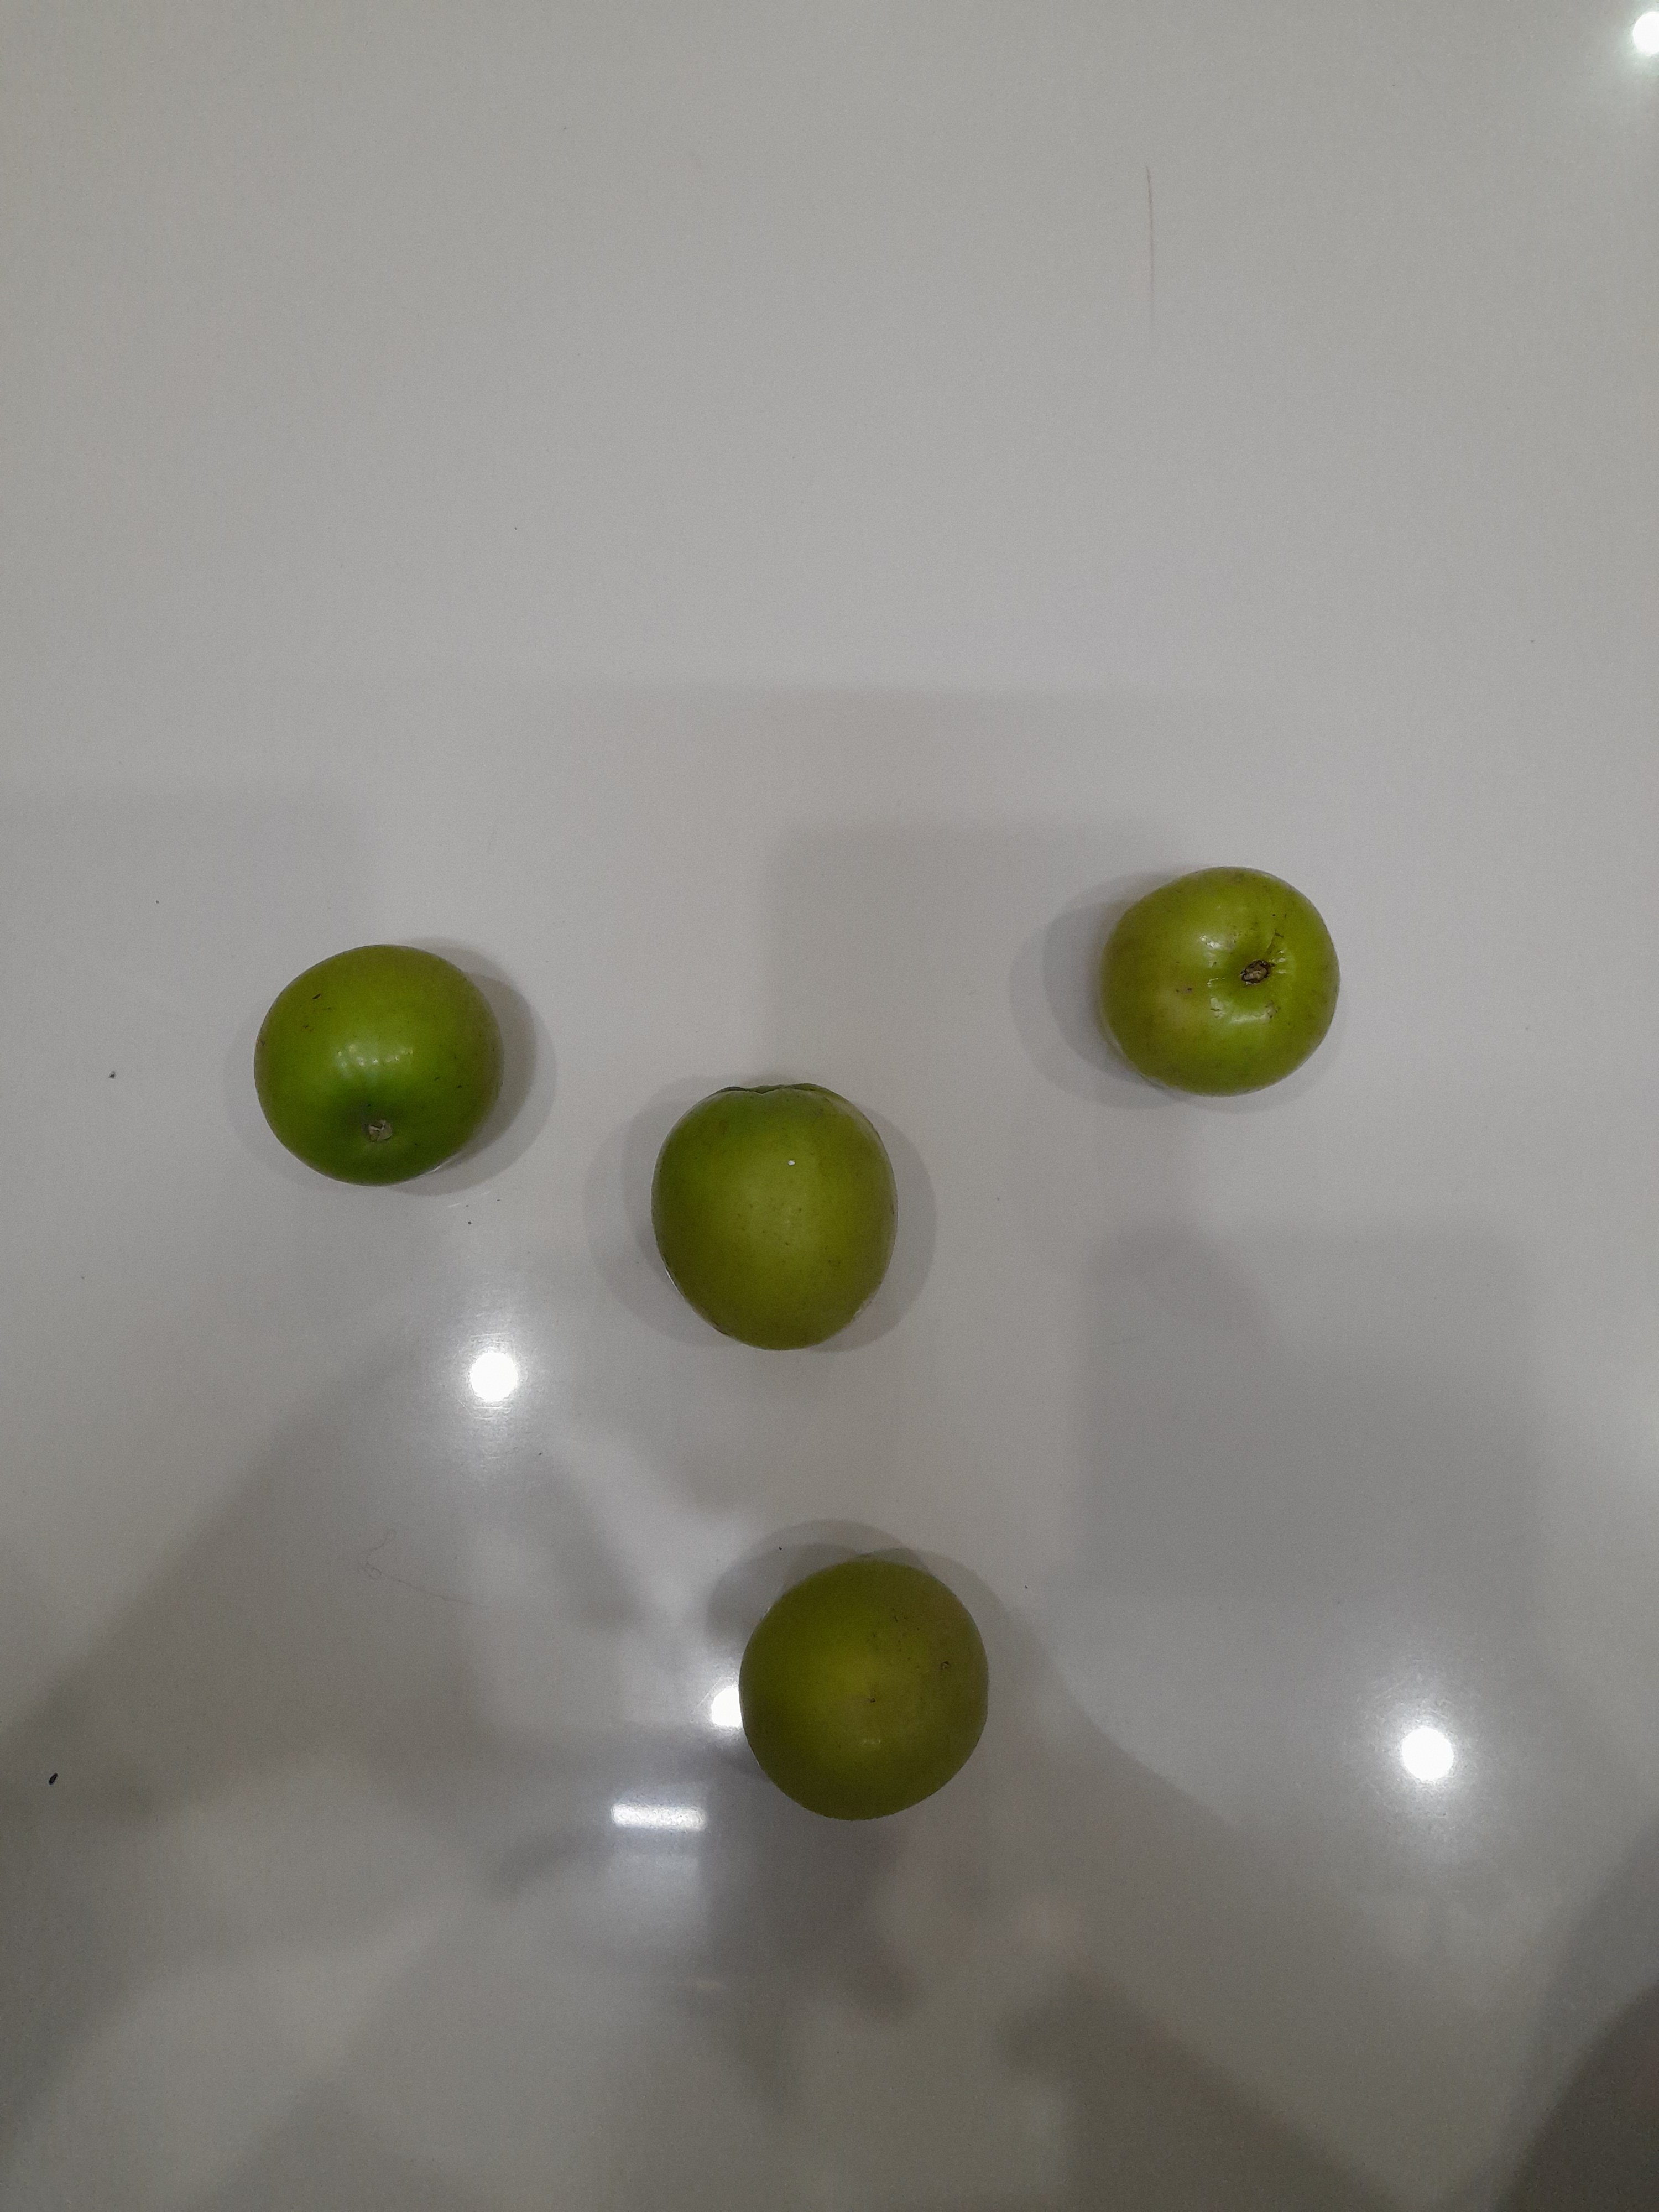Tao xanh: (648, 1078, 899, 1353), (738, 1559, 992, 1819), (253, 943, 507, 1191), (1095, 866, 1343, 1099)
